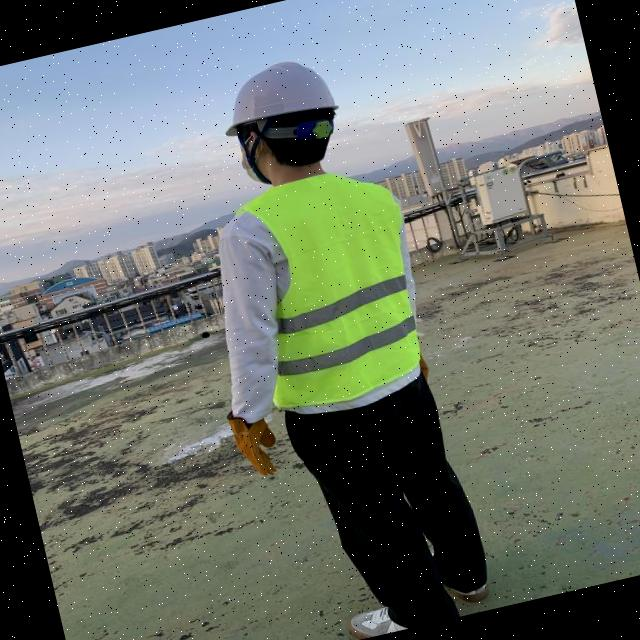boots: (345, 601, 410, 640), (444, 571, 493, 609)
helmet: (210, 51, 340, 137)
vest: (227, 157, 440, 415)
